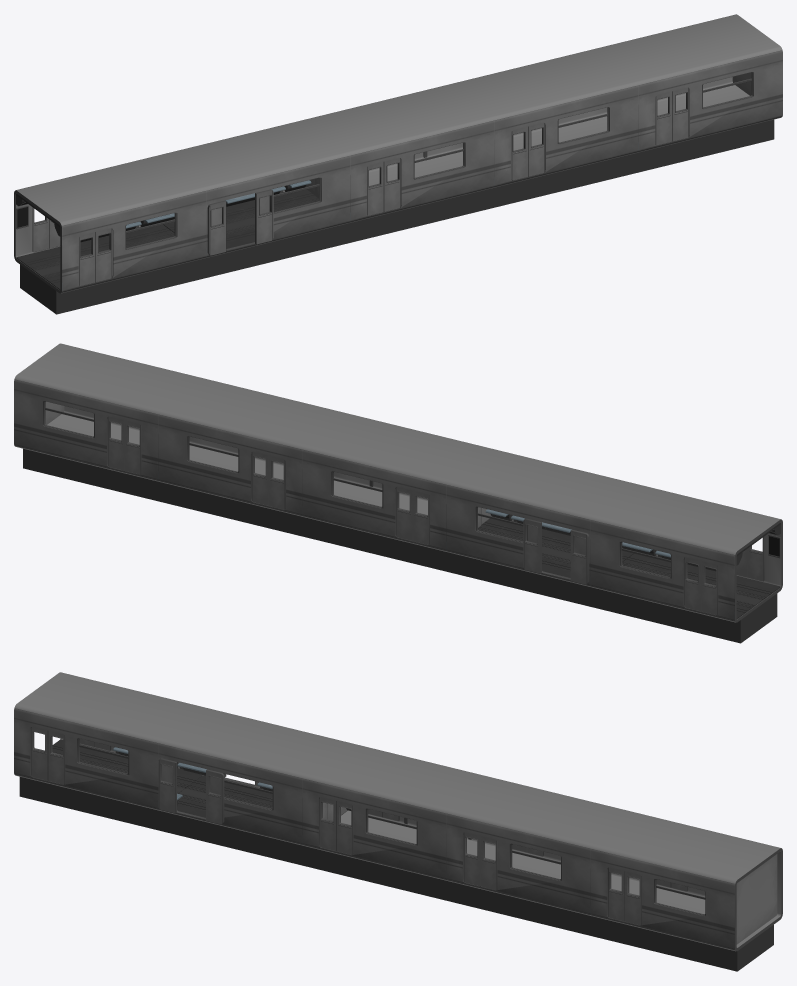
File: Train1.fbx
3 views of the same model, one above another, from view 1: azimuth 30°, elevation 25°; view 2: azimuth 150°, elevation 25°; view 3: azimuth 330°, elevation 25° (orthographic).
Visible parts, largest first — view 1: Train, TrainBase, Doors2, Floor, Doors1, Window, DoorR, DoorL; view 2: Train, TrainBase, Doors2, Floor, Doors1, Window, DoorR, DoorL; view 3: Train, TrainBase, Doors2, Floor, TrainWall, Window, Doors1, DoorR, DoorL.
Part boxes in pixels (left/top/right/bottom): Train: left=14, top=14, right=782, bottom=293; TrainBase: left=20, top=119, right=774, bottom=314; Doors2: left=367, top=87, right=689, bottom=215; Floor: left=16, top=189, right=318, bottom=289; Doors1: left=32, top=207, right=112, bottom=285; Window: left=125, top=72, right=753, bottom=249; DoorR: left=207, top=200, right=226, bottom=255; DoorL: left=255, top=189, right=273, bottom=244; Train: left=14, top=343, right=782, bottom=622; TrainBase: left=23, top=448, right=777, bottom=643; Doors2: left=107, top=416, right=429, bottom=544; Floor: left=478, top=518, right=780, bottom=618; Doors1: left=684, top=536, right=764, bottom=615; Window: left=43, top=401, right=671, bottom=578; DoorR: left=570, top=529, right=589, bottom=584; DoorL: left=523, top=518, right=541, bottom=573; Train: left=14, top=672, right=782, bottom=951; TrainBase: left=19, top=777, right=773, bottom=971; Doors2: left=319, top=797, right=688, bottom=925; Floor: left=52, top=739, right=343, bottom=817; TrainWall: left=736, top=854, right=777, bottom=944; Window: left=77, top=738, right=705, bottom=915; Doors1: left=31, top=726, right=111, bottom=784; DoorR: left=158, top=758, right=226, bottom=813; DoorL: left=206, top=769, right=255, bottom=824.
Bounding box in the file's own units: 28.72 × 3.51 × 3.62.
1 material, 1 textured.
